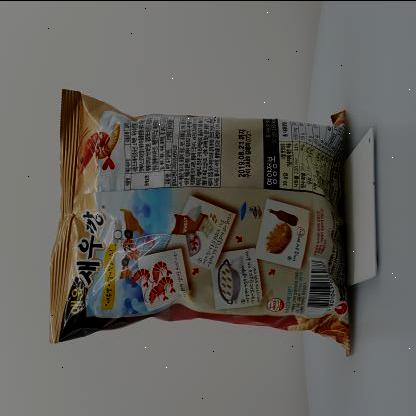Others: (38, 72, 374, 366)
